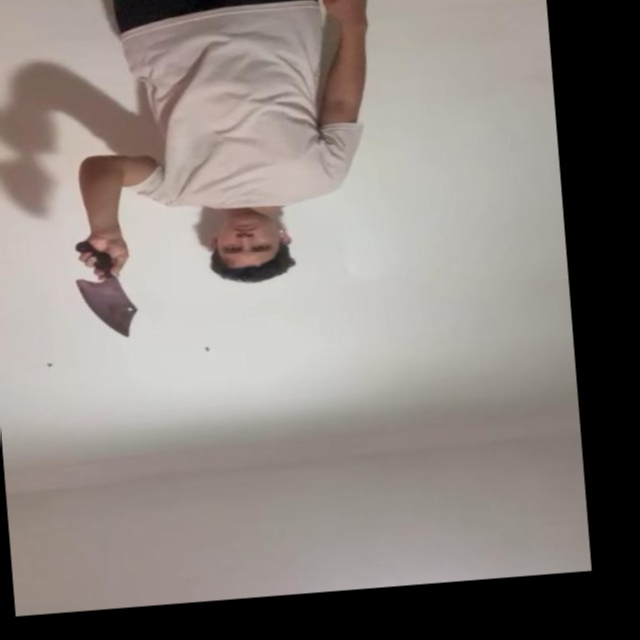Sharp-Object: (74, 275, 141, 343)
